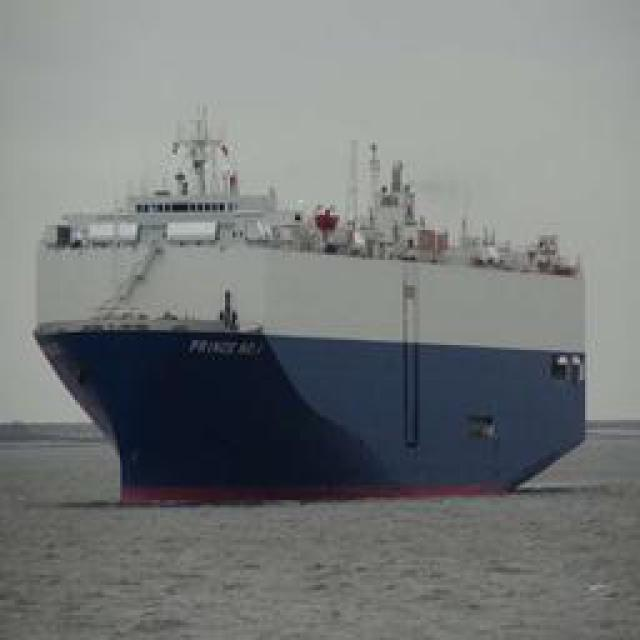Ship: (42, 104, 590, 499)
